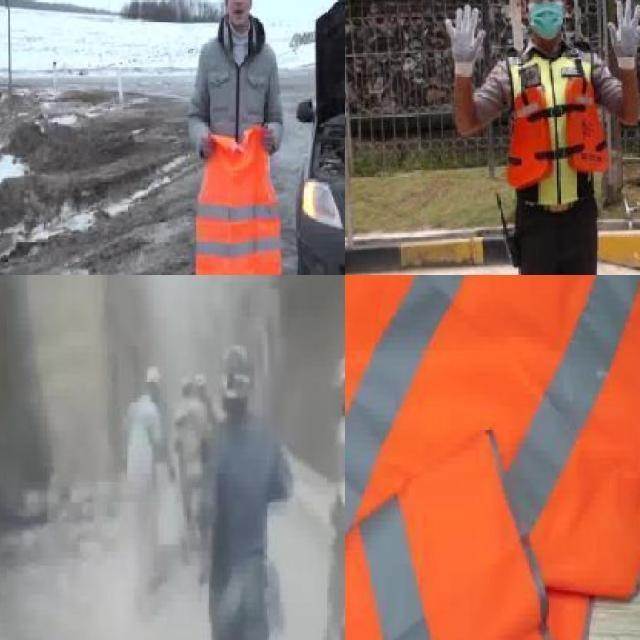apron: (442, 1, 490, 82), (605, 0, 640, 72)
